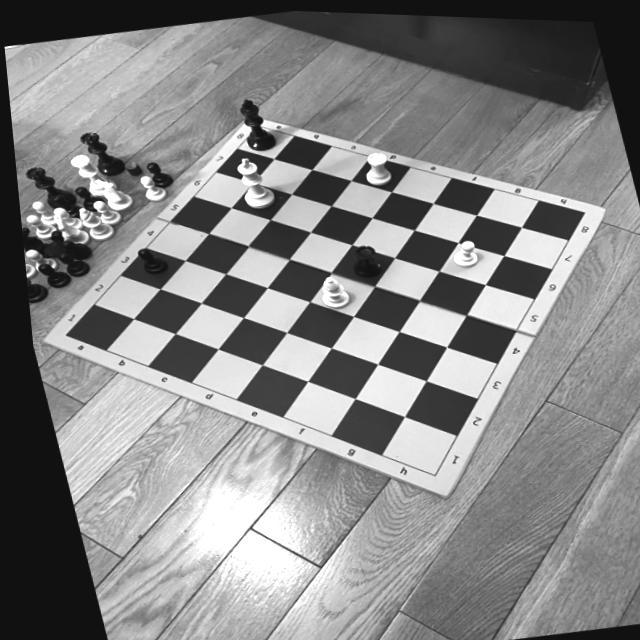chess-table-corners: (418, 464, 434, 480), (54, 331, 70, 341), (572, 203, 586, 212)
